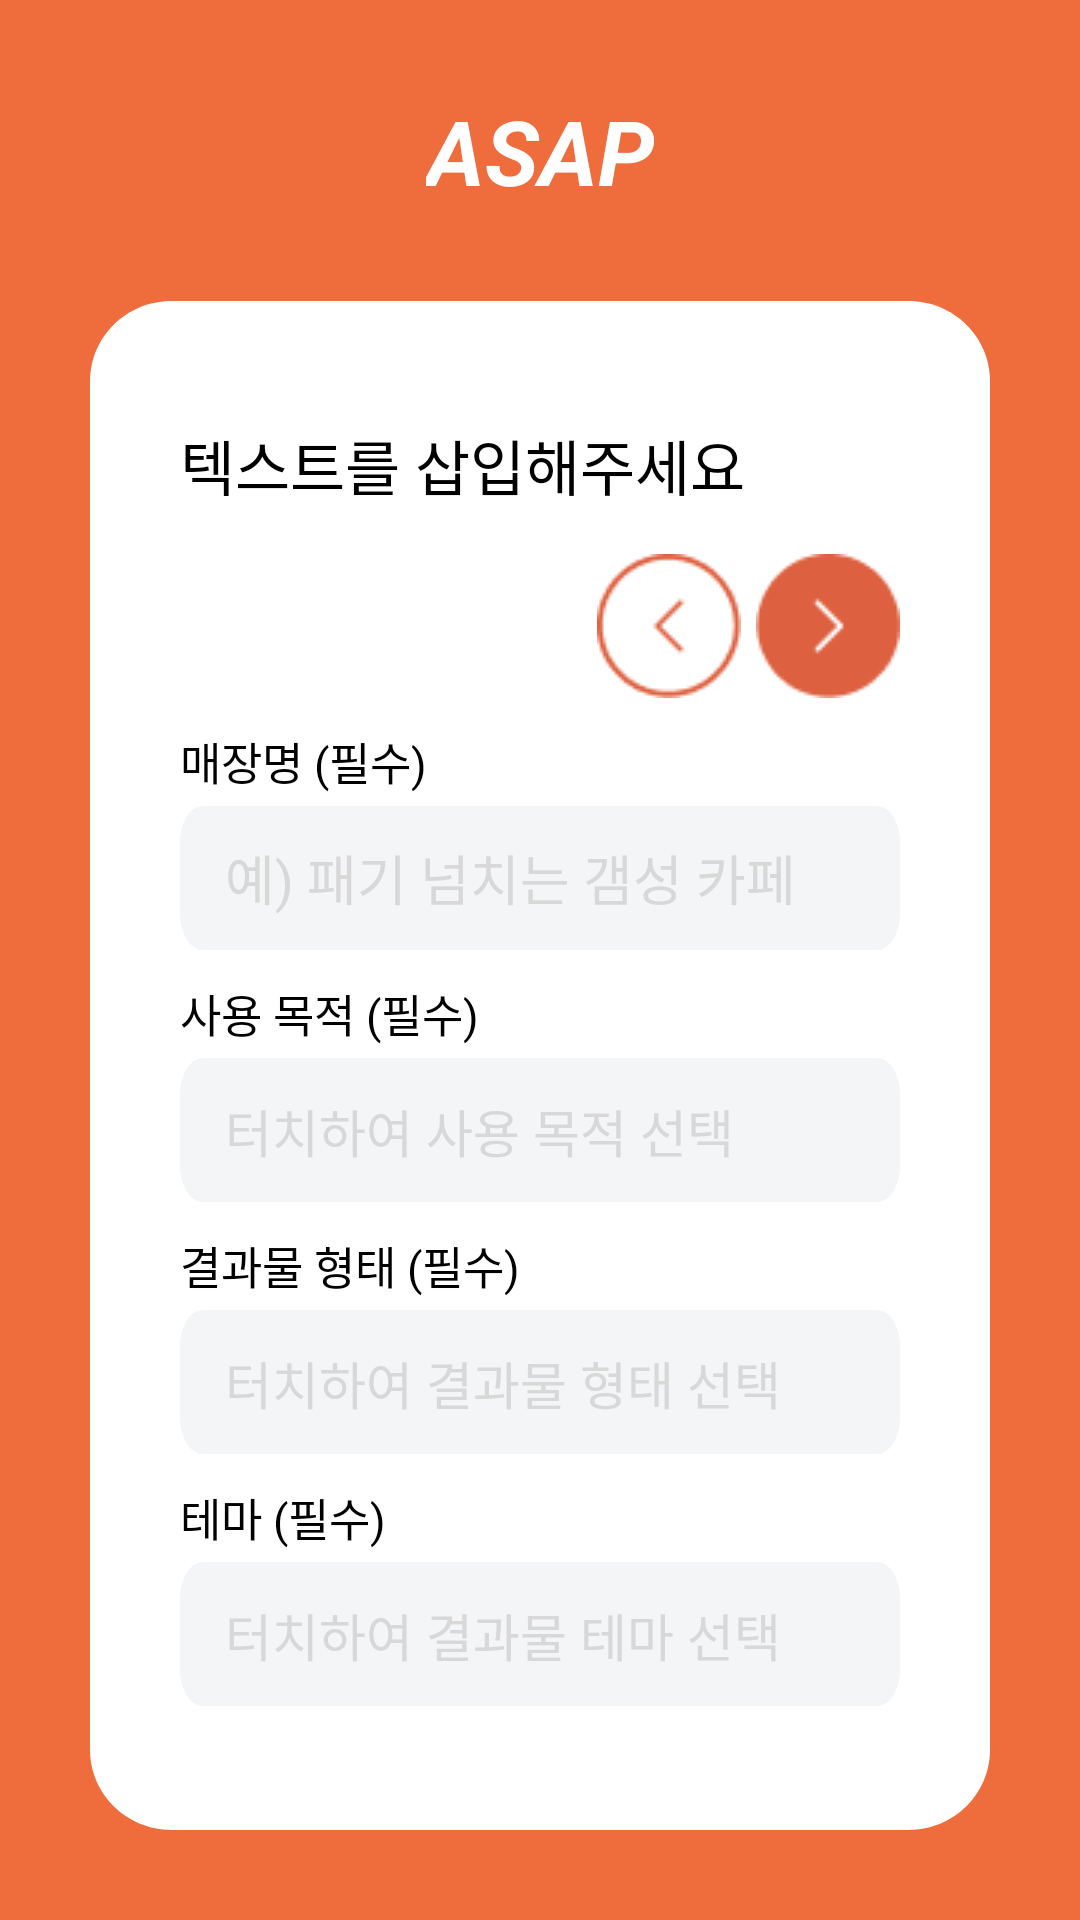

Locate icon controls on the screen. Image size 1080px x 1920px, boxes as (x1=x1, y1=y1, x2=x2, y2=y2).
upload page left: (x1=597, y1=554, x2=741, y2=698)
upload page right: (x1=756, y1=554, x2=900, y2=698)
